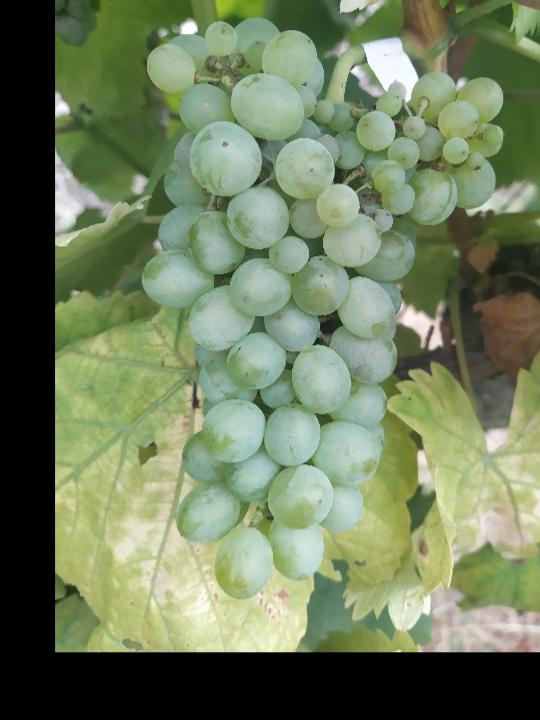grape: (138, 13, 507, 603)
